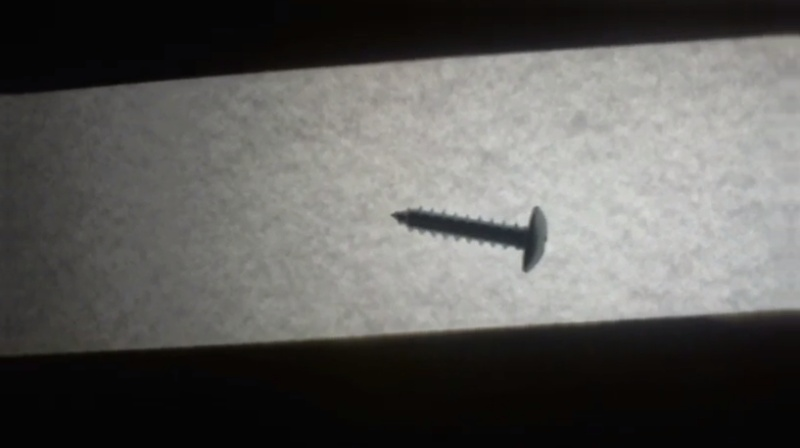S003: (389, 202, 551, 275)
